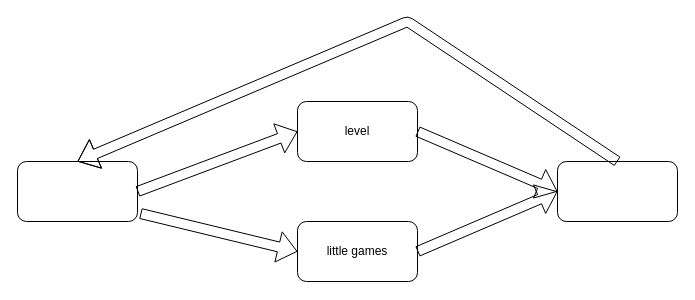
The diagram is 695 pixels wide and 300 high, and some of its shapes have lost their labels. Here are the shapes that lost their labels. From the top down, the centre of each, then its label:
At (x=77, y=191): "mainmenu".
At (x=617, y=191): "game over".
